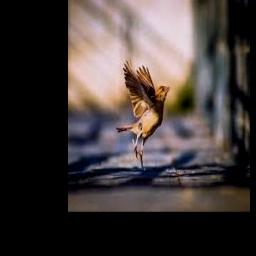Sparrow: (117, 58, 170, 170)
